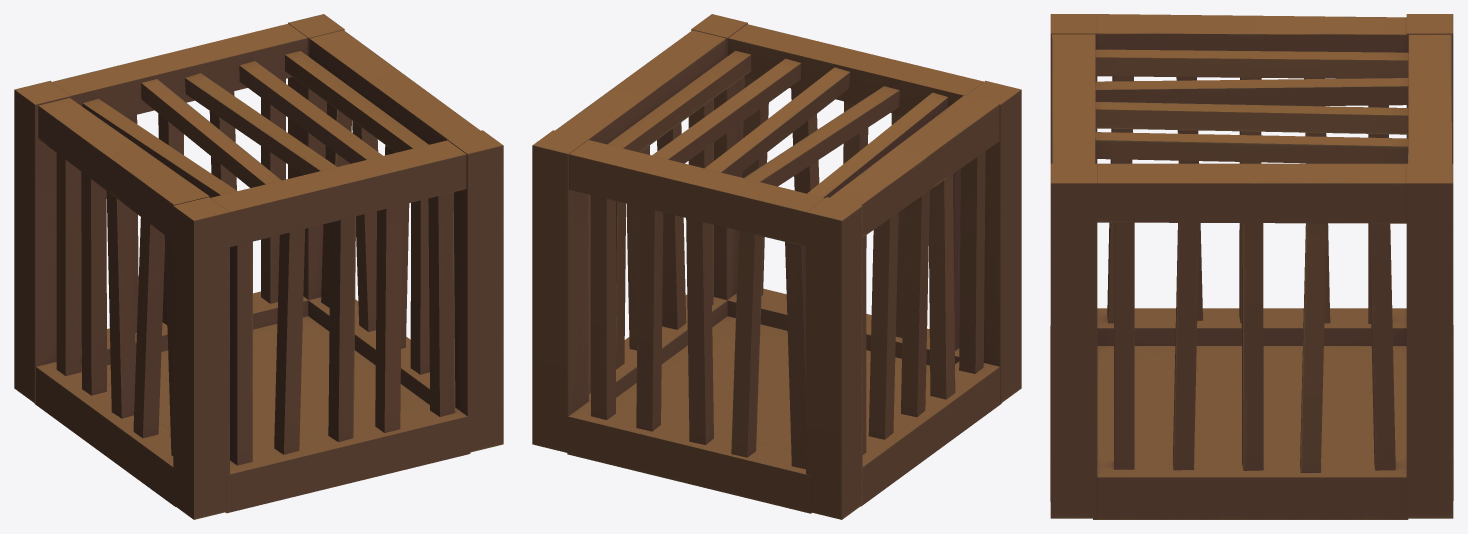
The model's file is cage_v2.glb.
The picture shows the model from 3 angles, left to right: view 1: azimuth 30°, elevation 25°; view 2: azimuth 150°, elevation 25°; view 3: azimuth 270°, elevation 25°; orthographic projection. The views are drawn at different scales.
Visible parts, largest first — view 1: eumling_cage; view 2: eumling_cage; view 3: eumling_cage.
Part boxes in pixels (x1,y1,x2,y2): eumling_cage: (14, 14, 503, 519); eumling_cage: (532, 14, 1021, 519); eumling_cage: (1050, 14, 1453, 519).
Bounding box in the file's own units: 0.8636 × 0.8018 × 0.869.
Materials: 1 (1 with a texture image).
